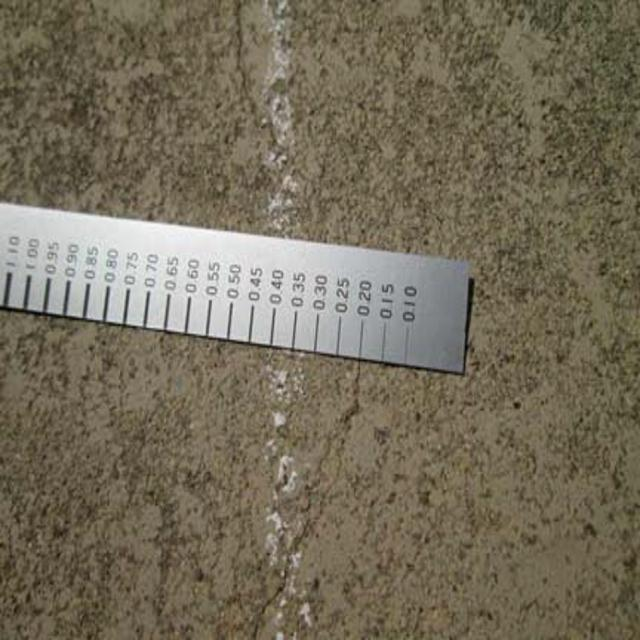crack: (264, 357, 367, 640), (232, 14, 334, 234)
